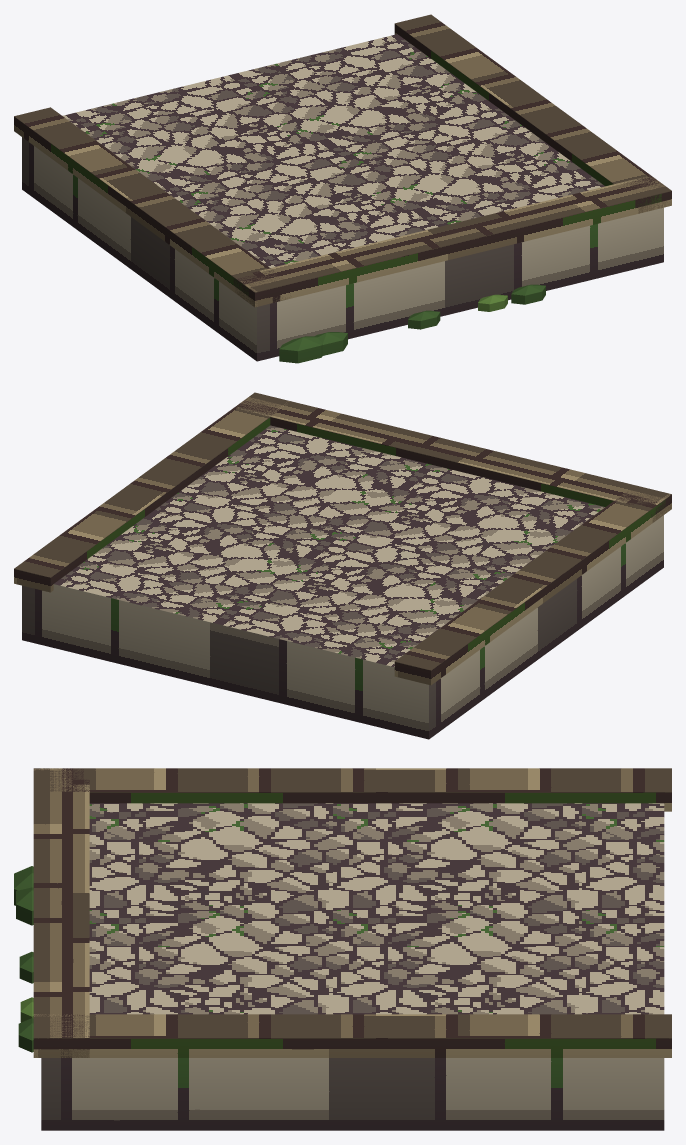
File: terrace_4x4_low.glb
The picture shows the model from 3 angles, top to bottom: view 1: azimuth 30°, elevation 25°; view 2: azimuth 150°, elevation 25°; view 3: azimuth 270°, elevation 25°; orthographic projection. The views are drawn at different scales.
Visible parts, largest first — view 1: terrace_4x4_low; view 2: terrace_4x4_low; view 3: terrace_4x4_low.
Boxes of the visible parts, x1,y1,x2,y2 form: terrace_4x4_low: (14, 14, 671, 363); terrace_4x4_low: (14, 392, 671, 739); terrace_4x4_low: (14, 768, 671, 1130).
Bounding box in the file's own units: 4.1 × 0.7553 × 4.23.
3 materials, 2 textured.
